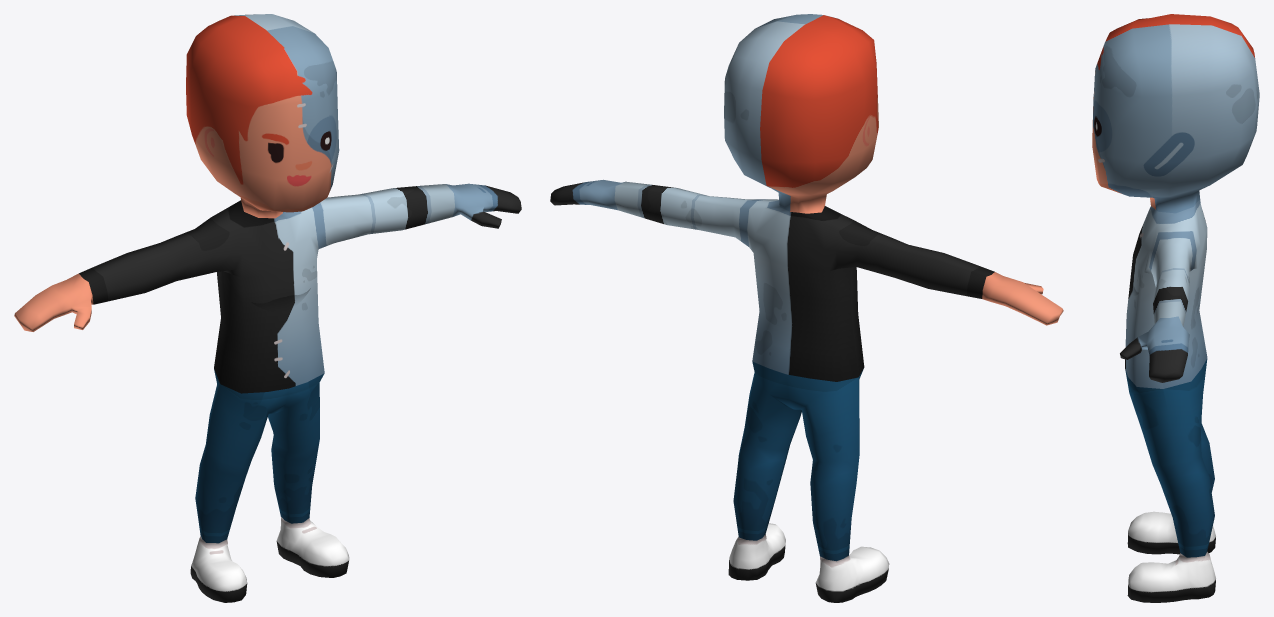
Rendered from ojisan.fbx.
The picture shows the model from 3 angles, left to right: view 1: azimuth 30°, elevation 25°; view 2: azimuth 150°, elevation 25°; view 3: azimuth 270°, elevation 25°; orthographic projection.
Parts seen in each view (by area): view 1: characterMedium; view 2: characterMedium; view 3: characterMedium.
Boxes of the visible parts, <box> form: characterMedium: <box>14,14,521,602</box>; characterMedium: <box>550,14,1063,602</box>; characterMedium: <box>1092,14,1259,602</box>.
Size of the model in its own units: 3.62 by 3.76 by 1.05.
1 material, 1 textured.
